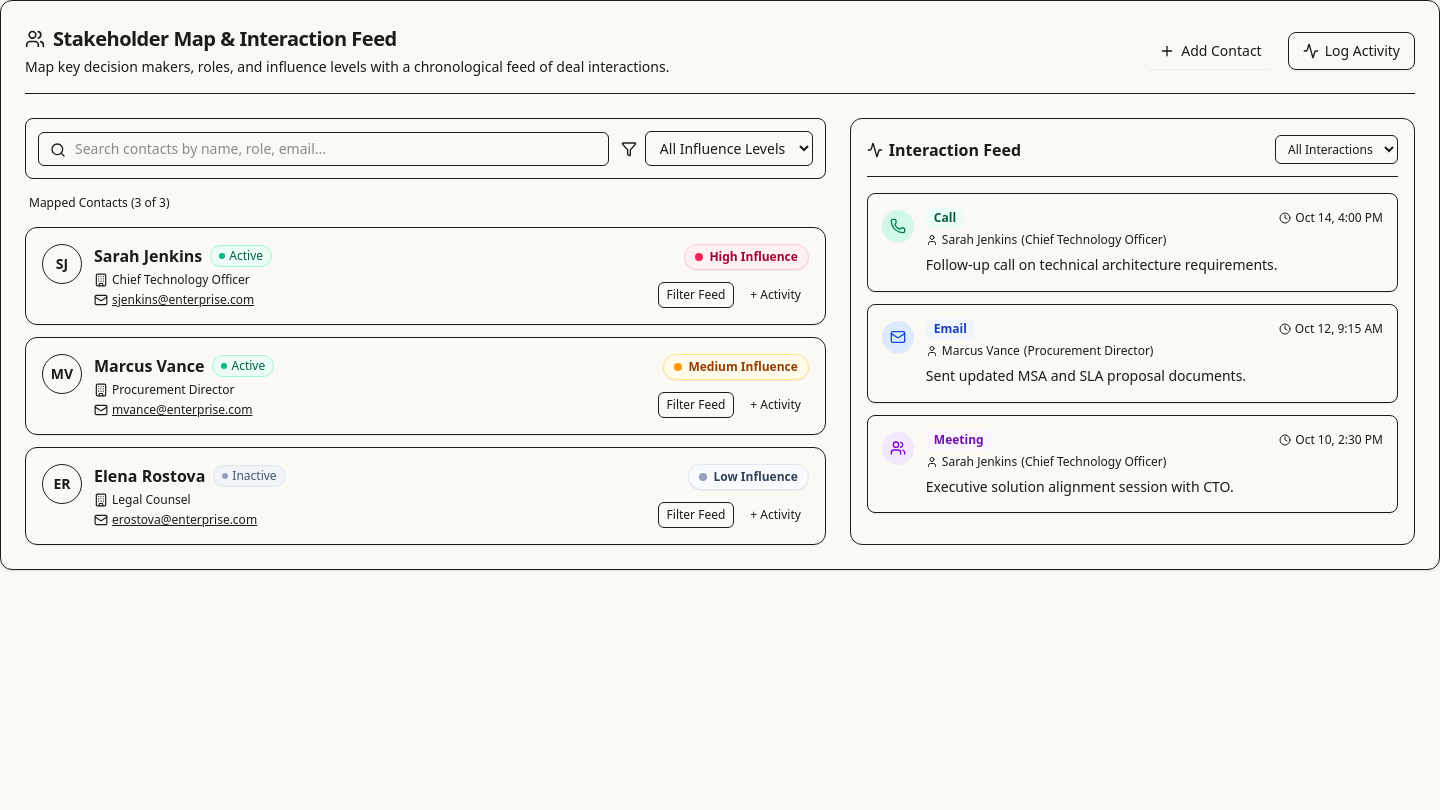
StakeholderMap Component [FR-006, FR-007] › Chronological Interaction Feed [FR-007] › filters activity feed by activity type and specific stakeholder
// Filter activity feed by "Call" type
Select "Calls" in the dropdown with test id "activity-type-filter" at (1336, 150), box [1275,135,1398,164]
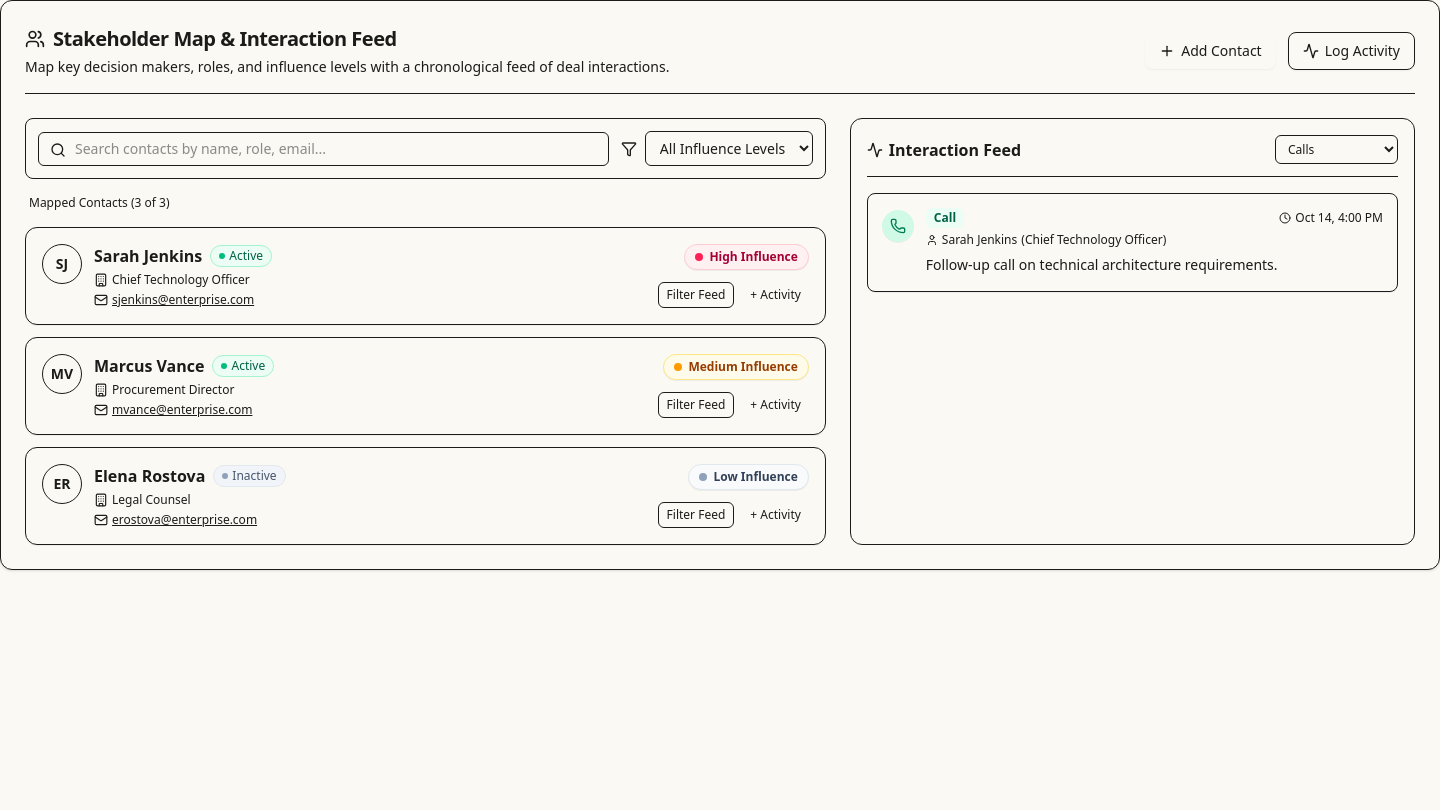
Expected: the element with test id "activity-item-act-3" is shown, [867,193,1398,292]
Expected: the element with test id "activity-item-act-1" is gone
Expected: the element with test id "activity-item-act-2" is gone
// Reset filter
Select "All Interactions" in the dropdown with test id "activity-type-filter" at (1336, 150), box [1275,135,1398,164]
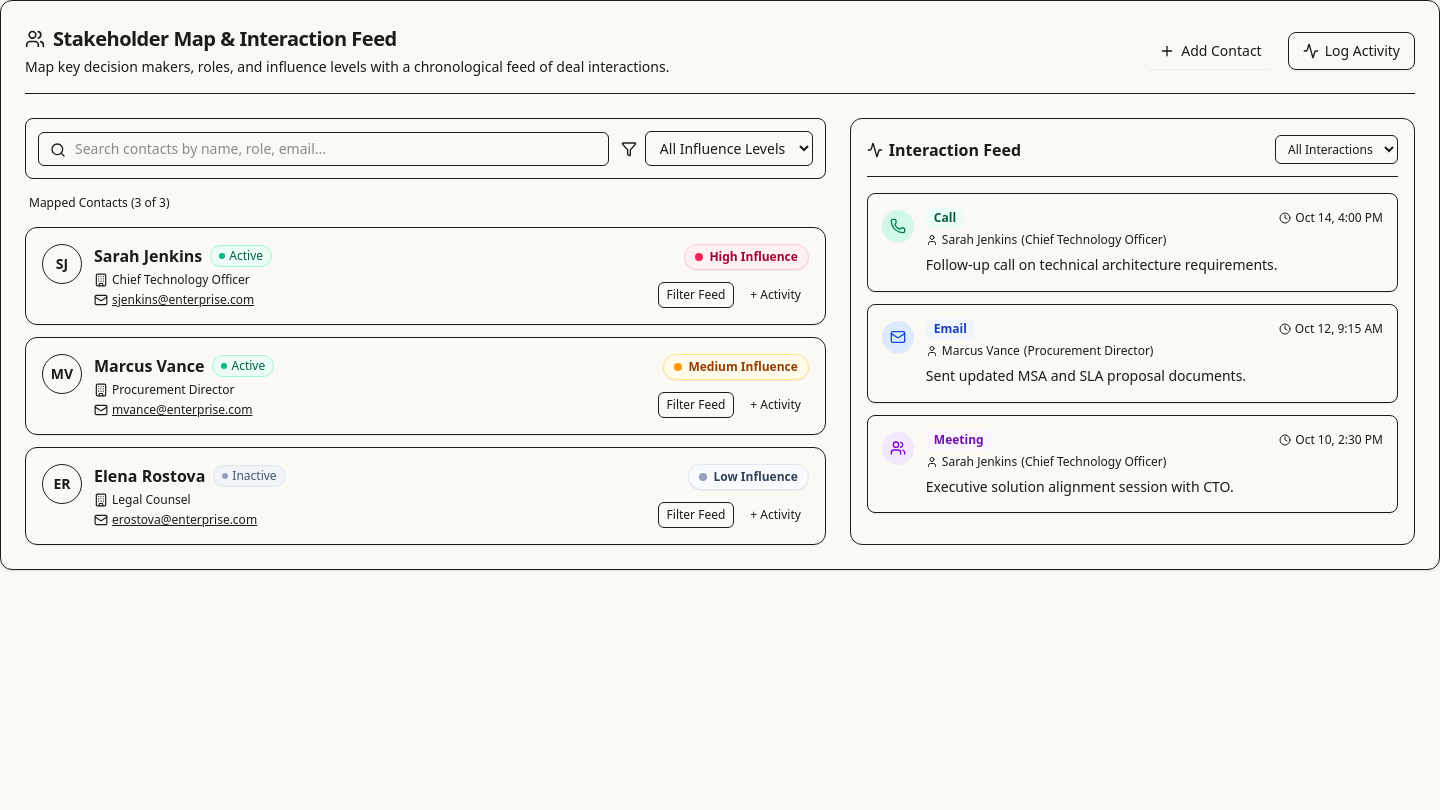
// Filter feed by specific stakeholder via card "Filter Feed" button
Click the button "Filter Feed" below "Medium".
click(696, 405)  # box [658,392,734,418]
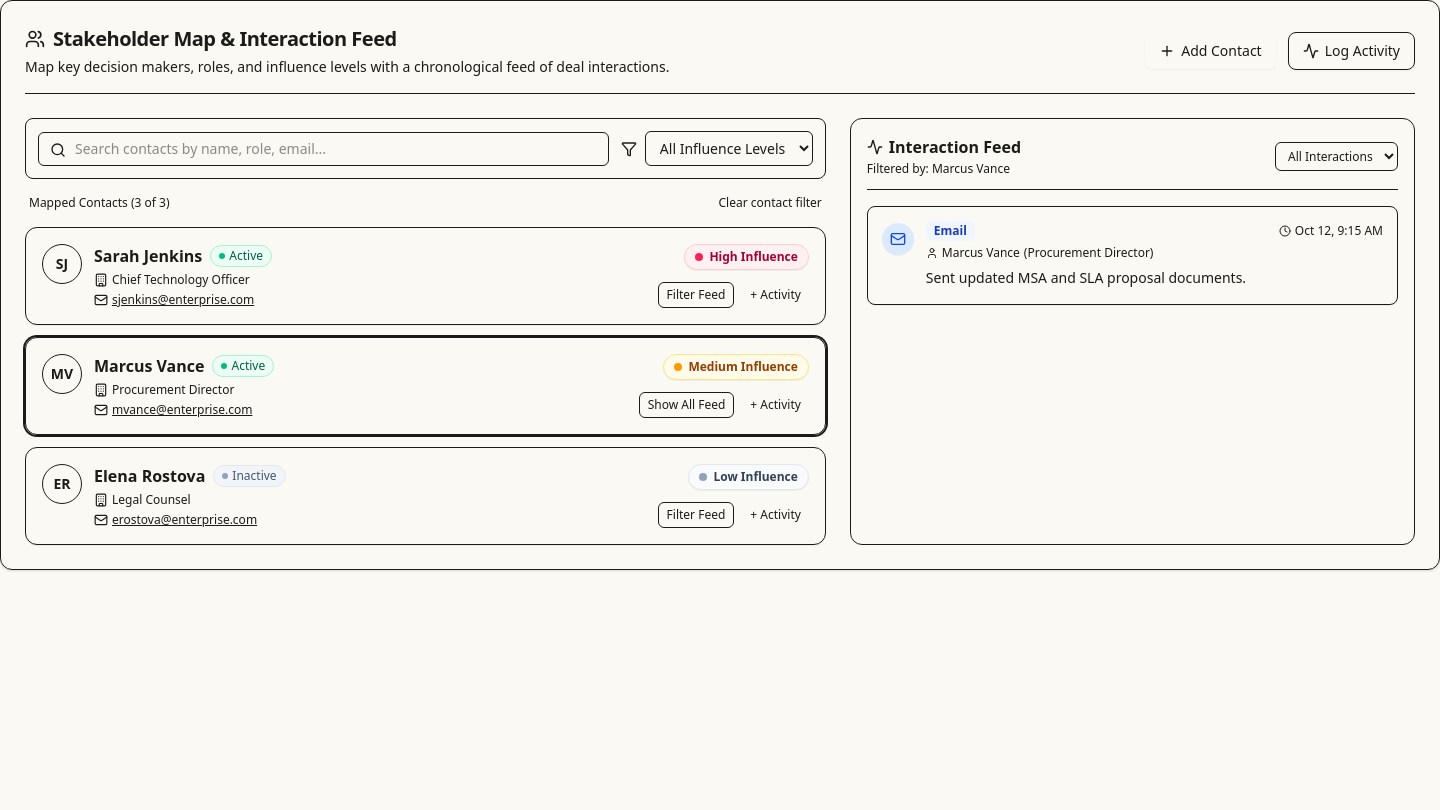
Expected: the element with test id "activity-item-act-2" is shown, [867,206,1398,305]
Expected: the element with test id "activity-item-act-1" is gone
Expected: the element with test id "activity-item-act-3" is gone
